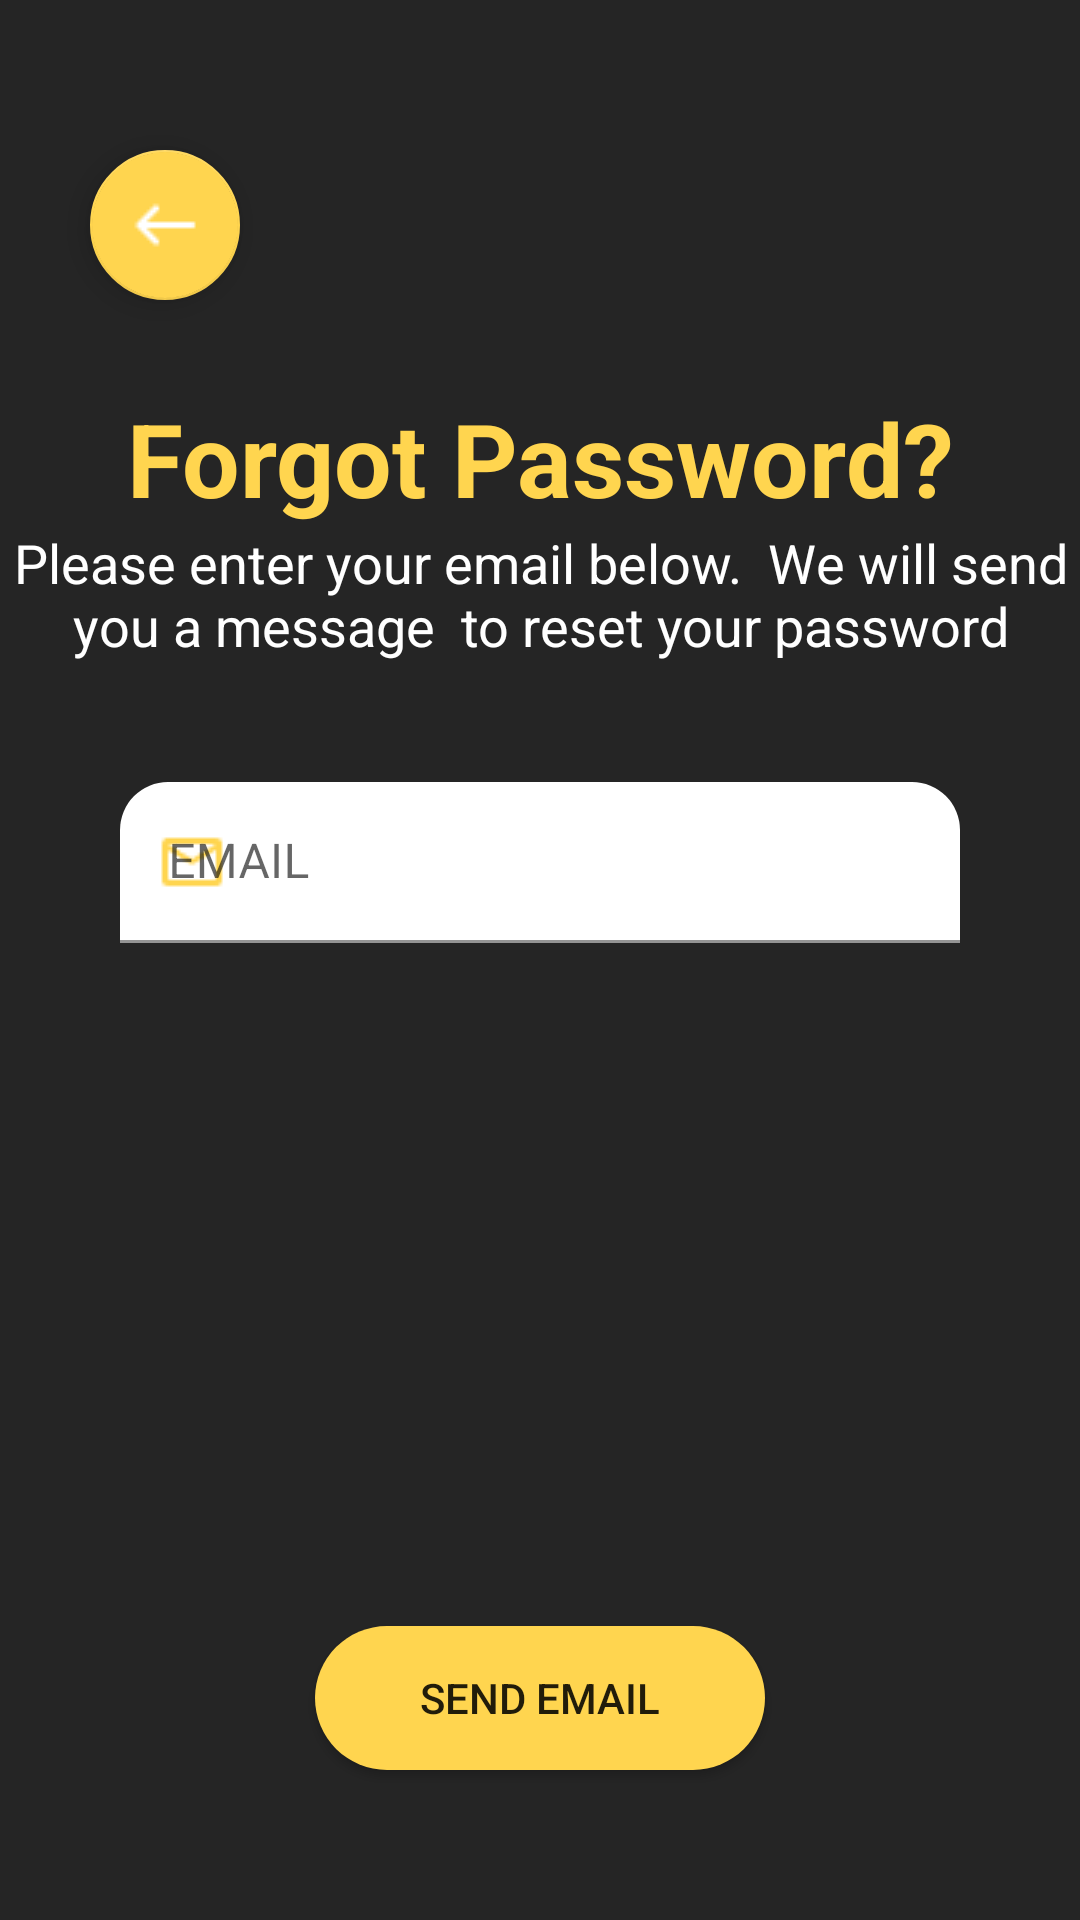

Icons on this 1080w x 1920h Android screen, each with its box as [x1,y1,x2,y2]:
arrow back: [90,150,240,300]
